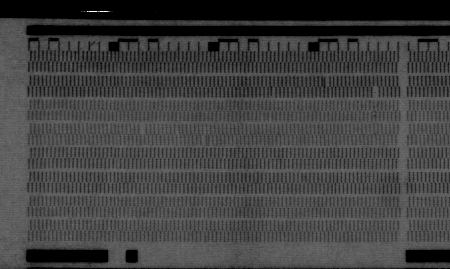Broken hole: (371, 87, 383, 100), (136, 124, 148, 136)
Oblique printing: (199, 134, 212, 148), (320, 75, 331, 90), (266, 86, 277, 100)
